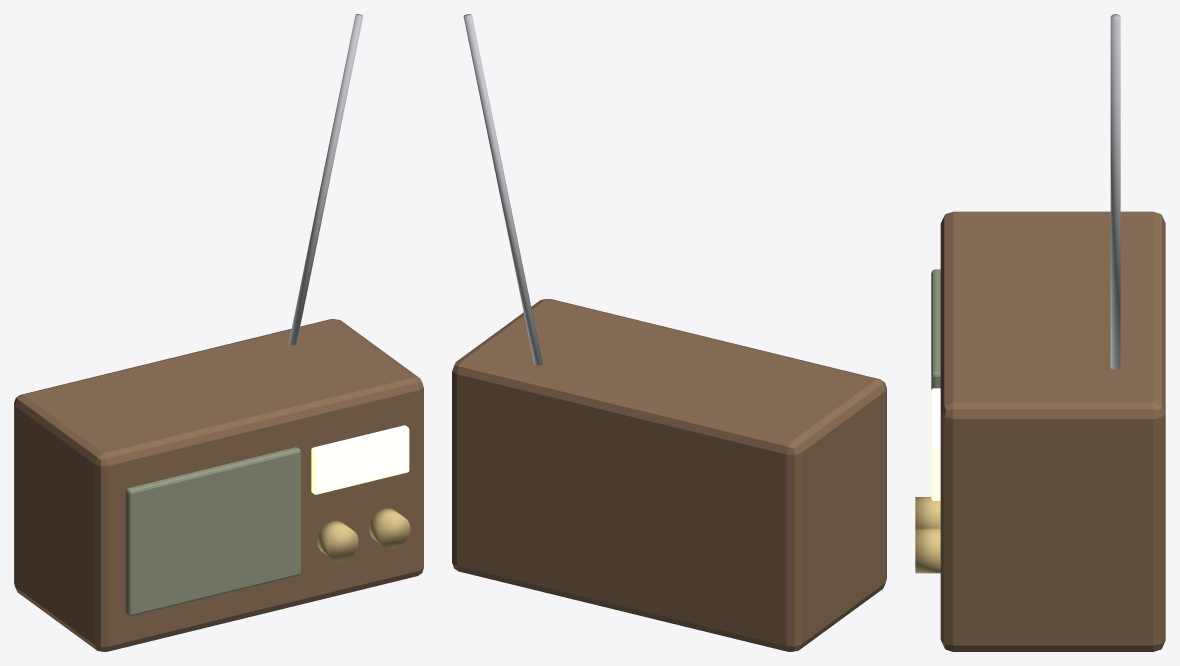
The model's file is radio_vintage.glb.
3 renders of one model, left to right at view 1: azimuth 30°, elevation 25°; view 2: azimuth 150°, elevation 25°; view 3: azimuth 270°, elevation 25°, orthographic. The views are drawn at different scales.
Visible parts, largest first — view 1: RadioCase, SpeakerCloth, TuningWindow, WhipAnt, RKnob_0.08, RKnob_0.14; view 2: RadioCase, WhipAnt; view 3: RadioCase, WhipAnt, SpeakerCloth, RKnob_0.14, TuningWindow, RKnob_0.08.
Boxes of the visible parts, bbox=[...] form: RadioCase: bbox=[14, 319, 423, 651]; SpeakerCloth: bbox=[125, 447, 300, 616]; TuningWindow: bbox=[311, 425, 409, 494]; WhipAnt: bbox=[288, 14, 363, 345]; RKnob_0.08: bbox=[317, 521, 358, 561]; RKnob_0.14: bbox=[369, 508, 410, 548]; RadioCase: bbox=[452, 298, 886, 651]; WhipAnt: bbox=[463, 14, 542, 365]; RadioCase: bbox=[940, 211, 1165, 651]; WhipAnt: bbox=[1110, 14, 1120, 369]; SpeakerCloth: bbox=[931, 269, 940, 389]; RKnob_0.14: bbox=[915, 528, 940, 573]; TuningWindow: bbox=[931, 388, 940, 500]; RKnob_0.08: bbox=[915, 497, 940, 528].
Size of the model in its own units: 0.3854 by 0.5663 by 0.2005.
